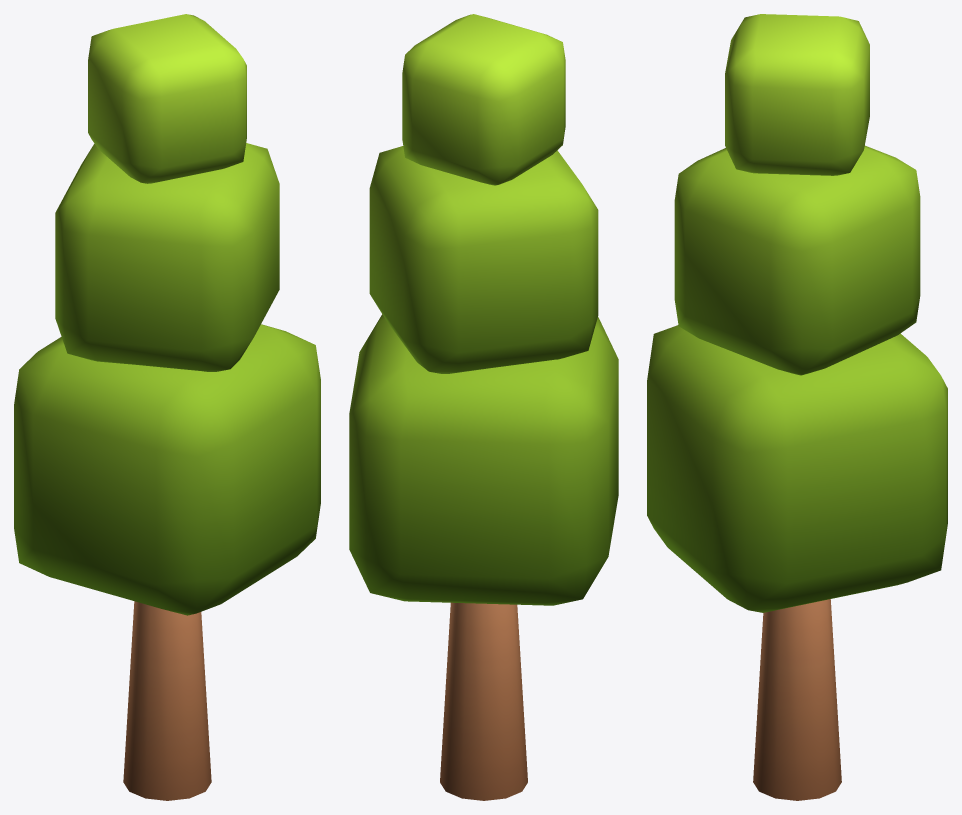
Rendered from lpb_tree_6_a.fbx.
3 views of the same model, side by side, from view 1: azimuth 30°, elevation 25°; view 2: azimuth 150°, elevation 25°; view 3: azimuth 270°, elevation 25° (orthographic).
Parts seen in each view (by area): view 1: ap_tree_6; view 2: ap_tree_6; view 3: ap_tree_6.
Part boxes in pixels (left/top/right/bottom): ap_tree_6: left=14, top=14, right=320, bottom=800; ap_tree_6: left=349, top=14, right=618, bottom=800; ap_tree_6: left=647, top=14, right=947, bottom=800.
Size of the model in its own units: 185 by 508 by 185.
